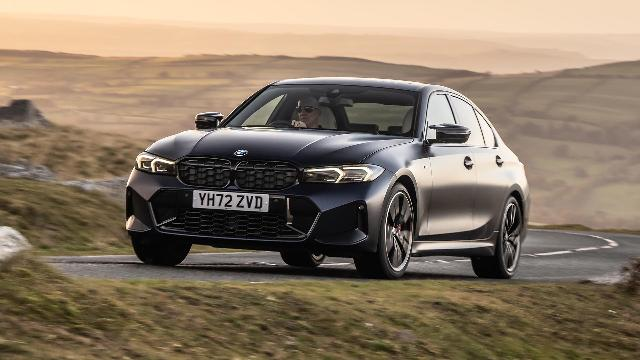bmw: (125, 77, 532, 280)
